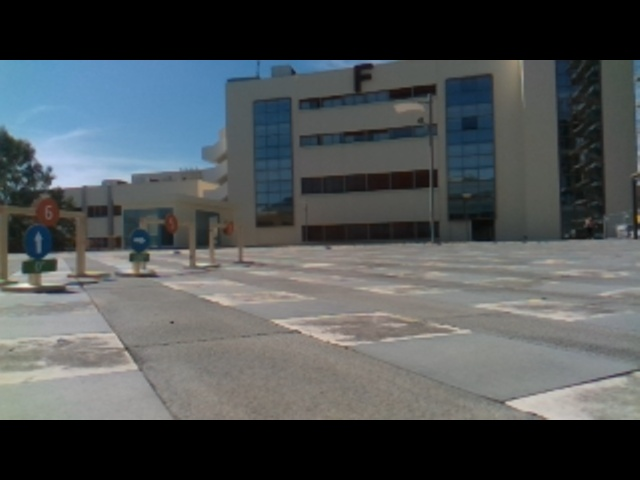0_degree: (20, 259, 61, 275)
arrow_right: (126, 229, 156, 251)
arrow_up: (21, 222, 55, 257)
checkpoint_foot: (70, 266, 109, 280)
checkpoint_side: (72, 208, 91, 273), (187, 219, 197, 265), (9, 198, 10, 277)
checkpoint_signal: (2, 205, 89, 222), (139, 216, 199, 230)
six: (36, 197, 62, 226)
